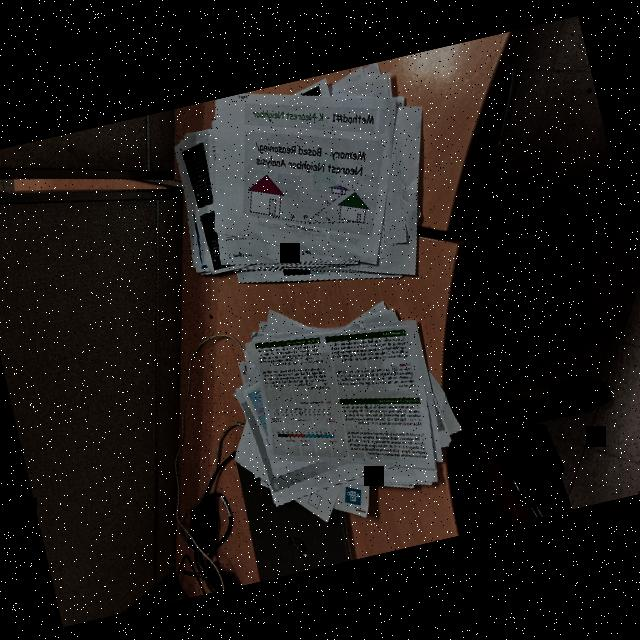reuseable_paper: (150, 54, 458, 327), (199, 265, 483, 546)
